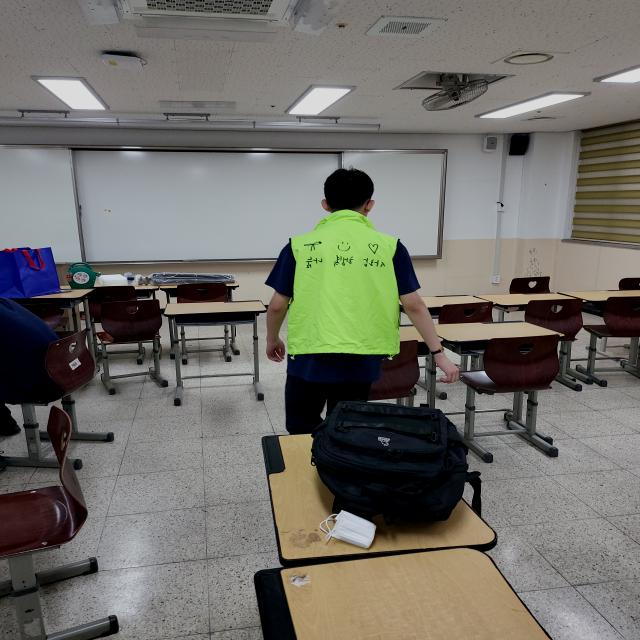weston_spy: (268, 205, 421, 364)
